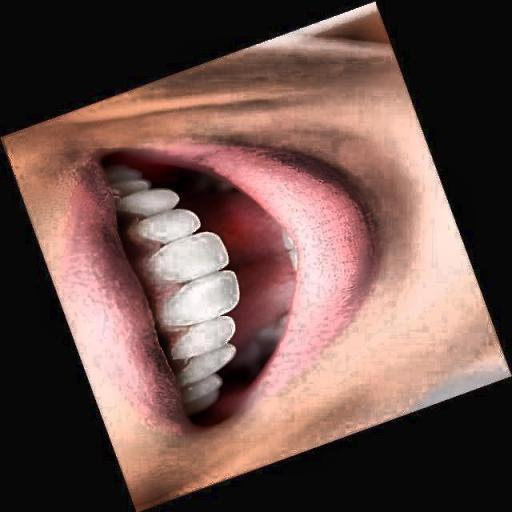Healthy: (94, 126, 357, 391)
